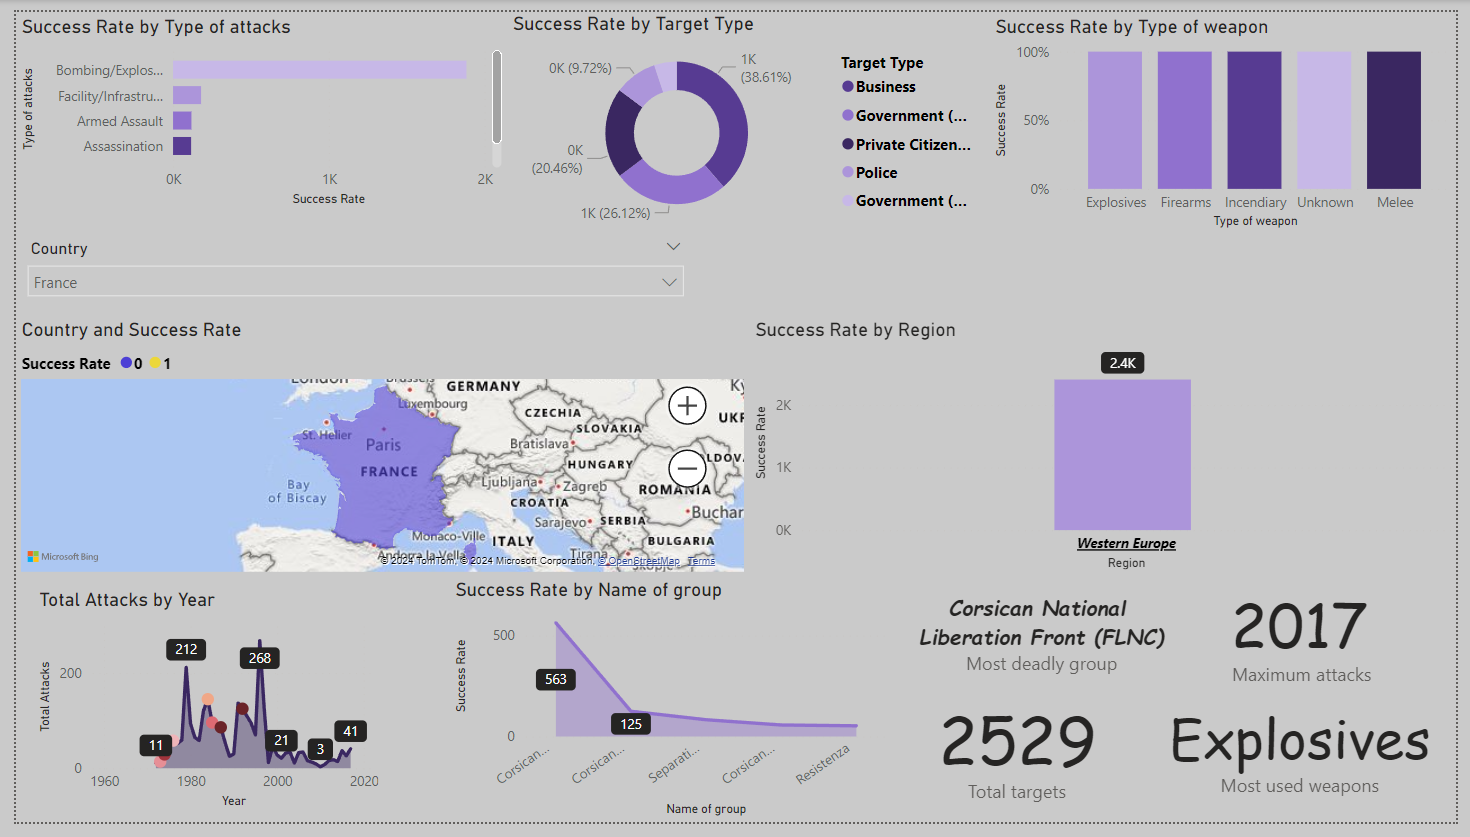

Layout of this report page (visuals, bound fields, positions):
{"tool":"powerbi","page":{"name":"Page 1","canvas":[1280,720],"ordinal":0},"visuals":[{"type":"barChart","fields":{"Category":["Global terrorism final data set.Type of attacks"],"Y":["Sum(Global terrorism final data set.Success Rate)"]},"box":[0,1.7,436.7,175],"z":0},{"type":"donutChart","fields":{"Category":["Global terrorism final data set.Target Type"],"Y":["Sum(Global terrorism final data set.Success Rate)"]},"box":[436.8,0,427.6,196.1],"z":1000},{"type":"hundredPercentStackedColumnChart","fields":{"Category":["Global terrorism final data set.Type of weapon"],"Y":["Sum(Global terrorism final data set.Success Rate)"]},"box":[865,1.7,415,195],"z":2000},{"type":"filledMap","fields":{"Category":["Global terrorism final data set.Country"],"Series":["Global terrorism final data set.Success Rate"]},"box":[0,271.7,651.7,231.7],"z":3000},{"type":"lineClusteredColumnComboChart","fields":{"Category":["Global terrorism final data set.Region"],"Y":["Sum(Global terrorism final data set.Success Rate)"]},"box":[651.7,271.7,628.3,228.3],"z":4000},{"type":"stackedAreaChart","fields":{"Category":["Global terrorism final data set.Name of group"],"Y":["Sum(Global terrorism final data set.Success Rate)"]},"box":[385,503.3,393.3,216.7],"z":5000},{"type":"areaChart","fields":{"Category":["Global terrorism final data set.Year"],"Y":["CountNonNull(Global terrorism final data set.Year)"]},"box":[15,511.7,311.7,200],"z":6000},{"type":"slicer","fields":{"Values":["Global terrorism final data set.Country"]},"box":[0,196.7,603.3,75],"z":7000},{"type":"card","fields":{"Values":["Min(Global terrorism final data set.Name of group)"]},"box":[778.3,492.8,268.1,118.8],"z":8000},{"type":"card","fields":{"Values":["CountNonNull(Global terrorism final data set.Target Type)"]},"box":[786.7,601.7,206.7,106.7],"z":9000},{"type":"card","fields":{"Values":["Max(Global terrorism final data set.Year)"]},"box":[1046.7,503.3,188.3,100],"z":10000},{"type":"card","fields":{"Values":["Min(Global terrorism final data set.Type of weapon)"]},"box":[1001.7,588.3,278.3,131.7],"z":11000}]}

Visuals, with their boxes in screenshot pixels (x1, y1, x2, y2), scaled from the page's 1280x720 canvas onto the 1470x837 screenshot:
barChart - Global terrorism final data set.Type of attacks x Sum(Global terrorism final data set.Success Rate): (left=0, top=2, right=502, bottom=205)
donutChart - Global terrorism final data set.Target Type x Sum(Global terrorism final data set.Success Rate): (left=502, top=0, right=993, bottom=228)
hundredPercentStackedColumnChart - Global terrorism final data set.Type of weapon x Sum(Global terrorism final data set.Success Rate): (left=993, top=2, right=1469, bottom=229)
filledMap - Global terrorism final data set.Country x Global terrorism final data set.Success Rate: (left=0, top=316, right=748, bottom=585)
lineClusteredColumnComboChart - Global terrorism final data set.Region x Sum(Global terrorism final data set.Success Rate): (left=748, top=316, right=1469, bottom=581)
stackedAreaChart - Global terrorism final data set.Name of group x Sum(Global terrorism final data set.Success Rate): (left=442, top=585, right=894, bottom=836)
areaChart - Global terrorism final data set.Year x CountNonNull(Global terrorism final data set.Year): (left=17, top=595, right=375, bottom=827)
slicer - Global terrorism final data set.Country: (left=0, top=229, right=693, bottom=316)
card - Min(Global terrorism final data set.Name of group): (left=894, top=573, right=1202, bottom=711)
card - CountNonNull(Global terrorism final data set.Target Type): (left=903, top=699, right=1141, bottom=824)
card - Max(Global terrorism final data set.Year): (left=1202, top=585, right=1418, bottom=701)
card - Min(Global terrorism final data set.Type of weapon): (left=1150, top=684, right=1469, bottom=836)
